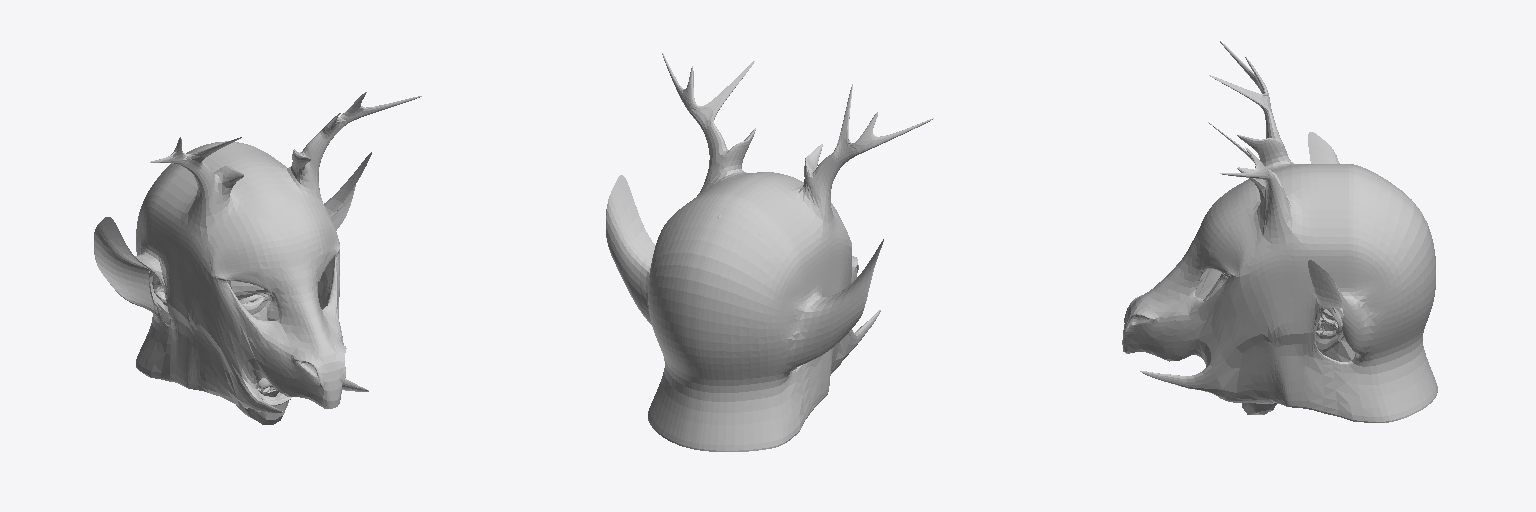
File: 03b_neg_mask.obj
3 renders of one model, left to right at view 1: azimuth 30°, elevation 25°; view 2: azimuth 150°, elevation 25°; view 3: azimuth 270°, elevation 25°, orthographic.
Parts seen in each view (by area): view 1: M4HelmetStag2, head; view 2: M4HelmetStag2; view 3: M4HelmetStag2, head.
Boxes of the visible parts, box(x1,y1,x2,y2) form: M4HelmetStag2: box(94, 92, 421, 413); head: box(149, 144, 291, 424); M4HelmetStag2: box(606, 53, 933, 451); M4HelmetStag2: box(1122, 41, 1437, 422); head: box(1203, 179, 1380, 414).
Bounding box in the file's own units: 0.1347 × 0.1486 × 0.1348.